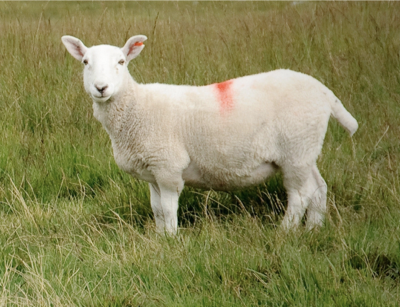koyun: (61, 34, 358, 232)
